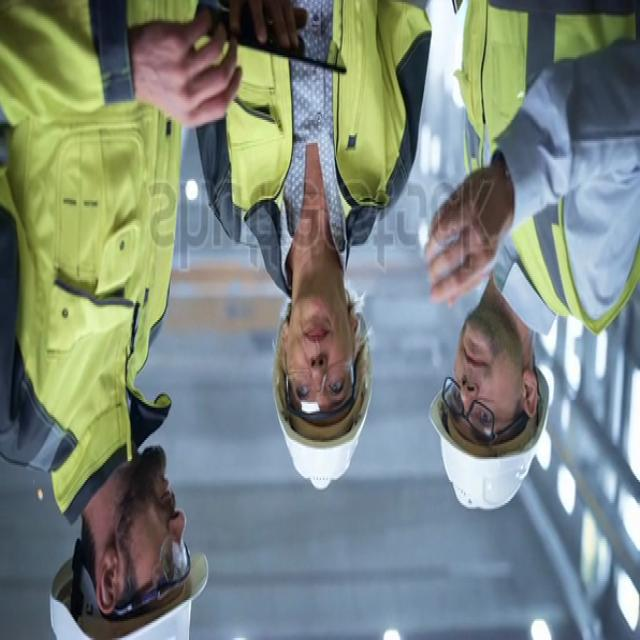goggles: (111, 523, 190, 625), (442, 374, 526, 446), (283, 360, 358, 416)
